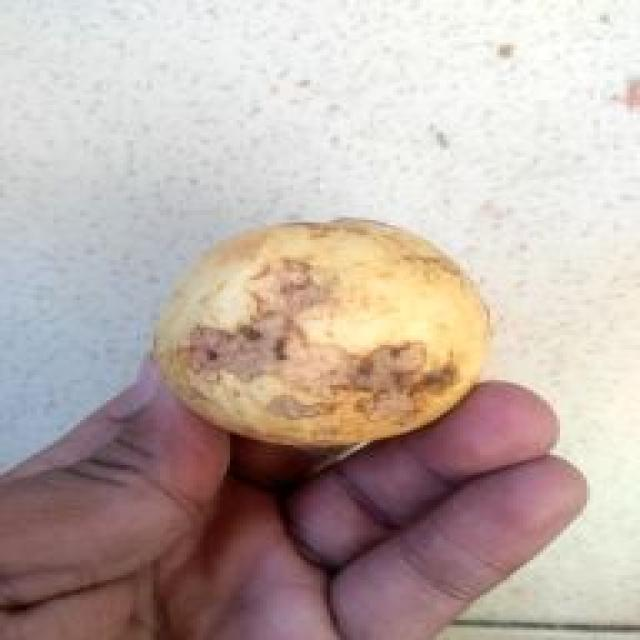Bad_Guava: (155, 220, 488, 448)
